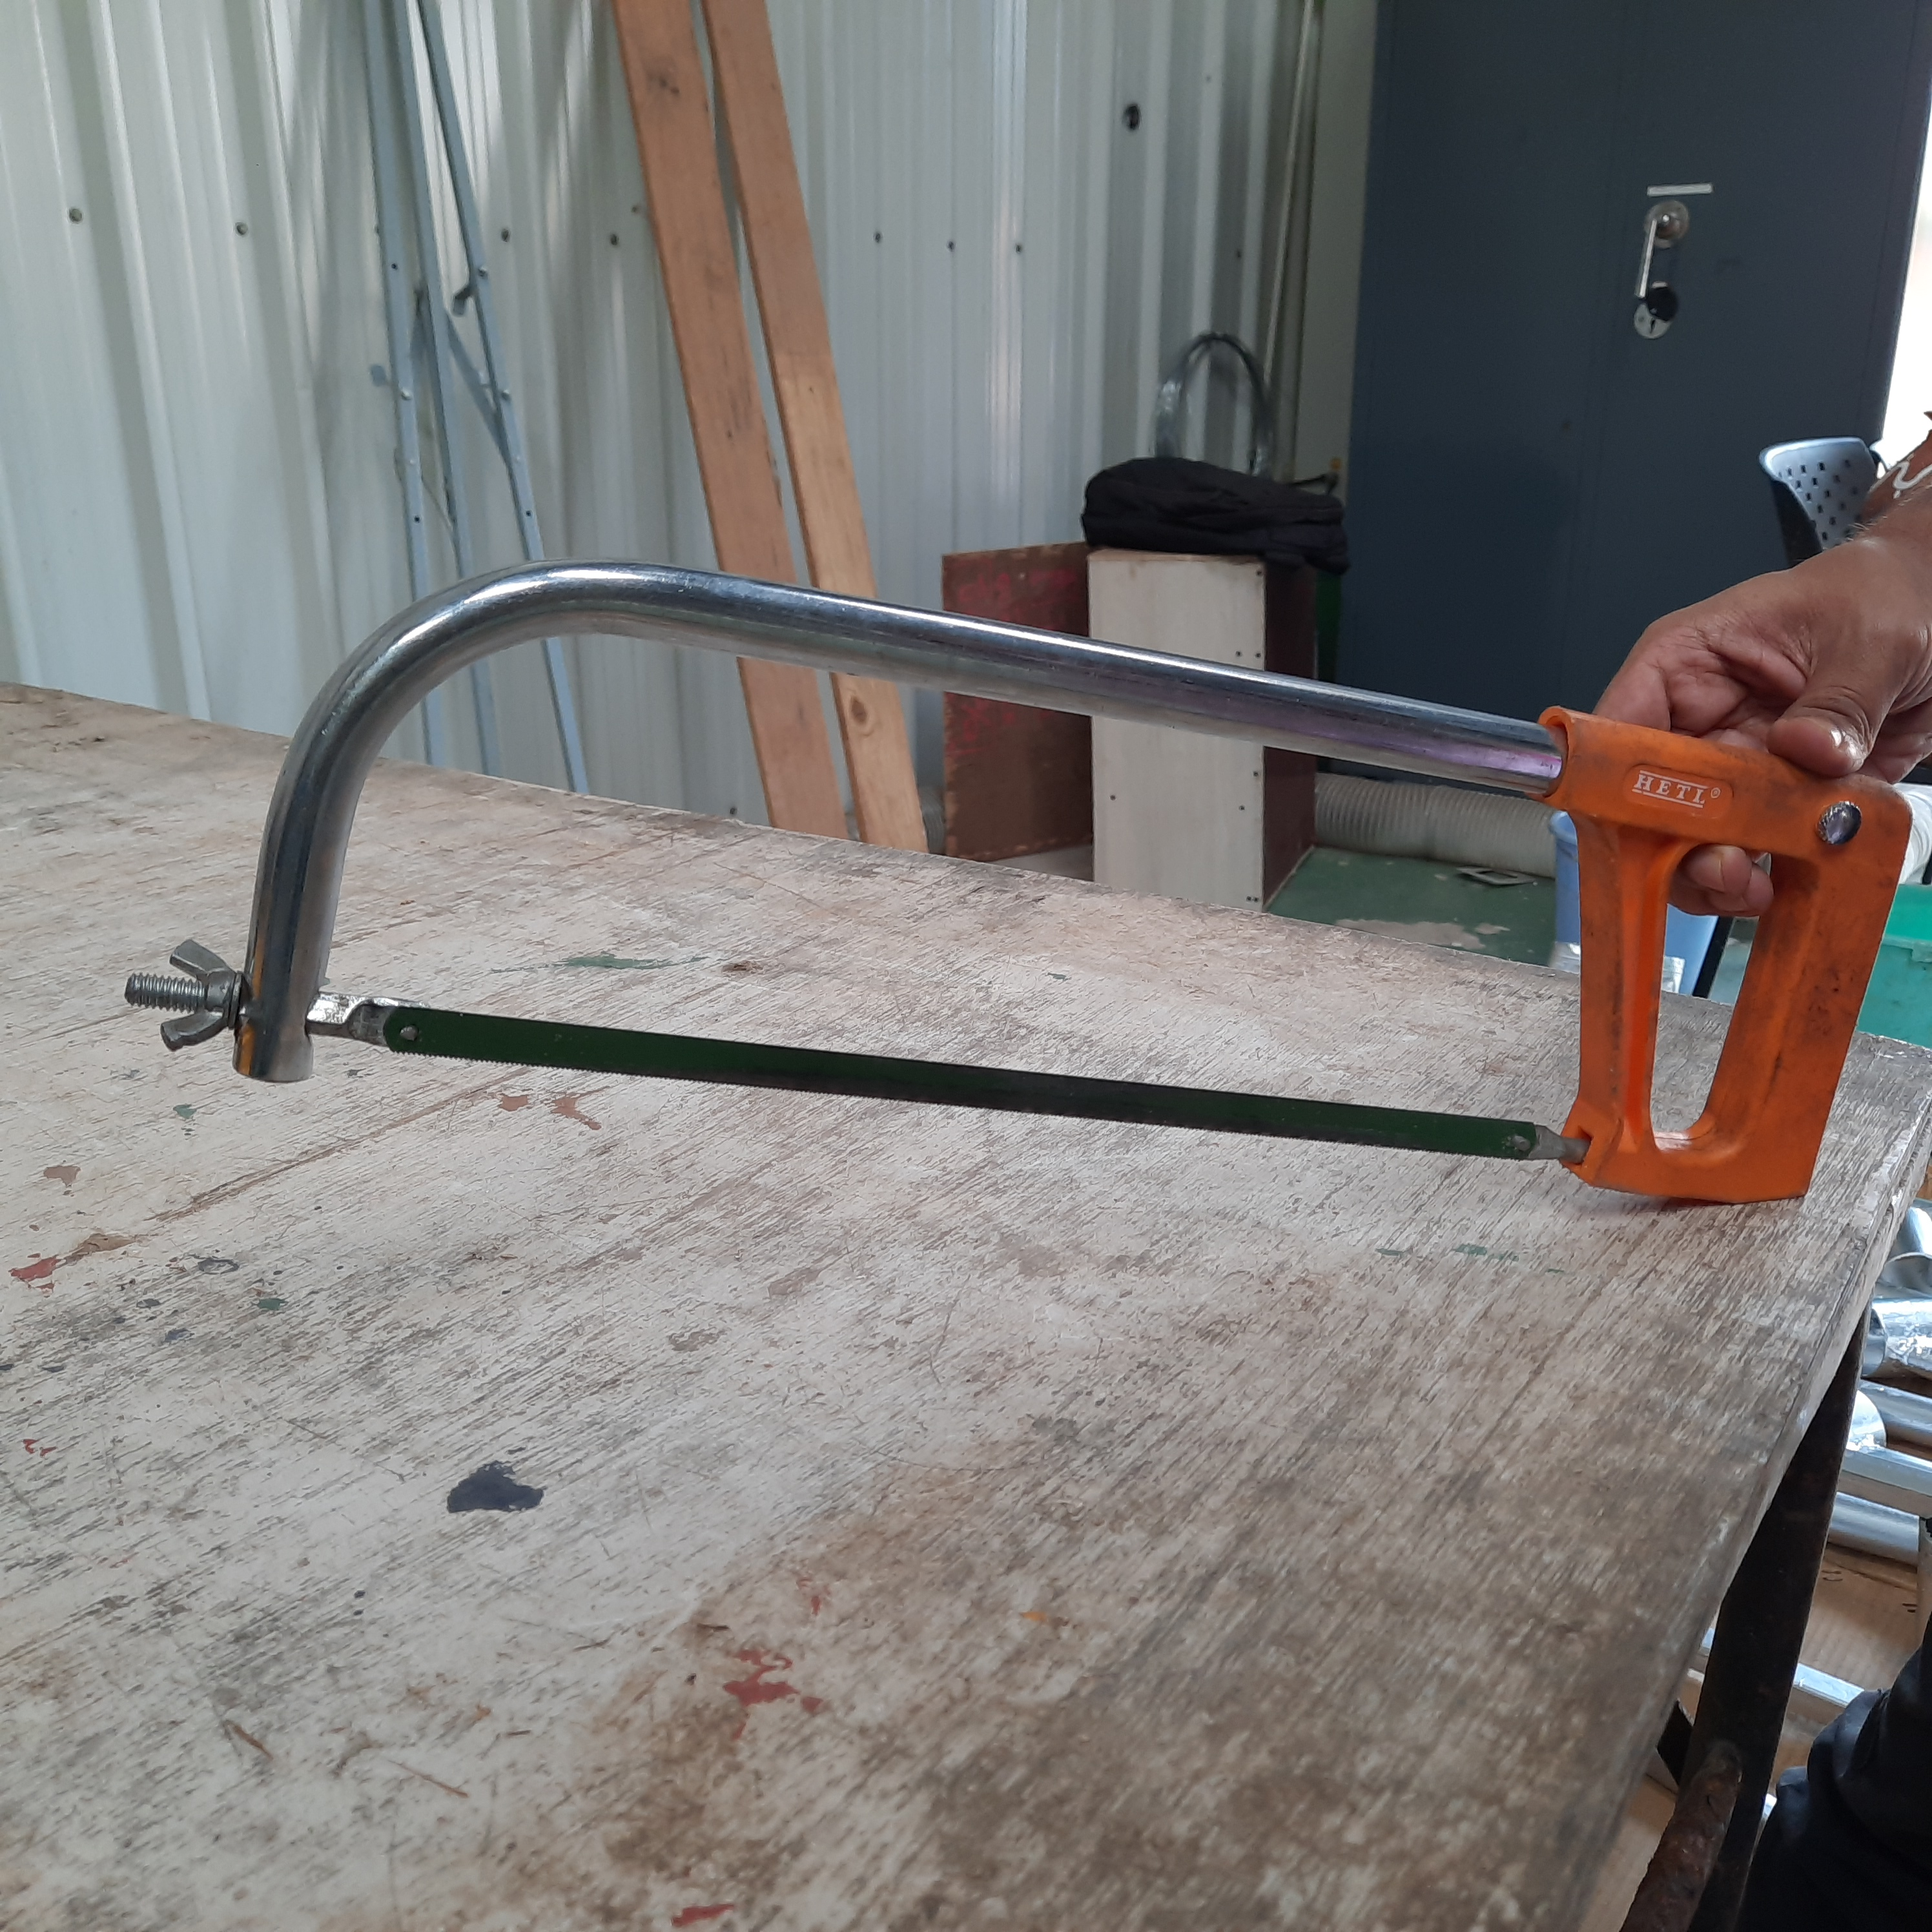Hexaframe: (126, 504, 1872, 1260)
